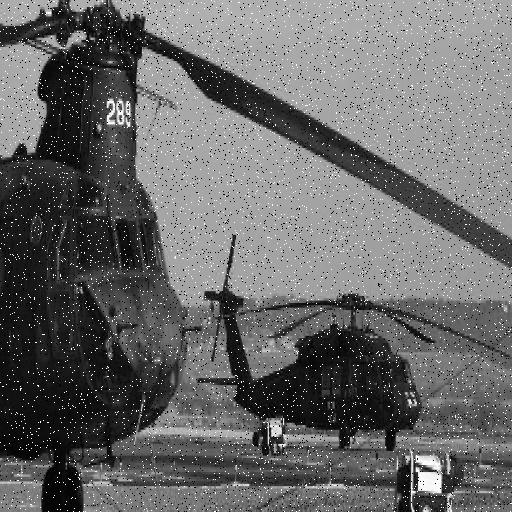helicopter: (1, 1, 512, 512), (202, 233, 512, 459)
